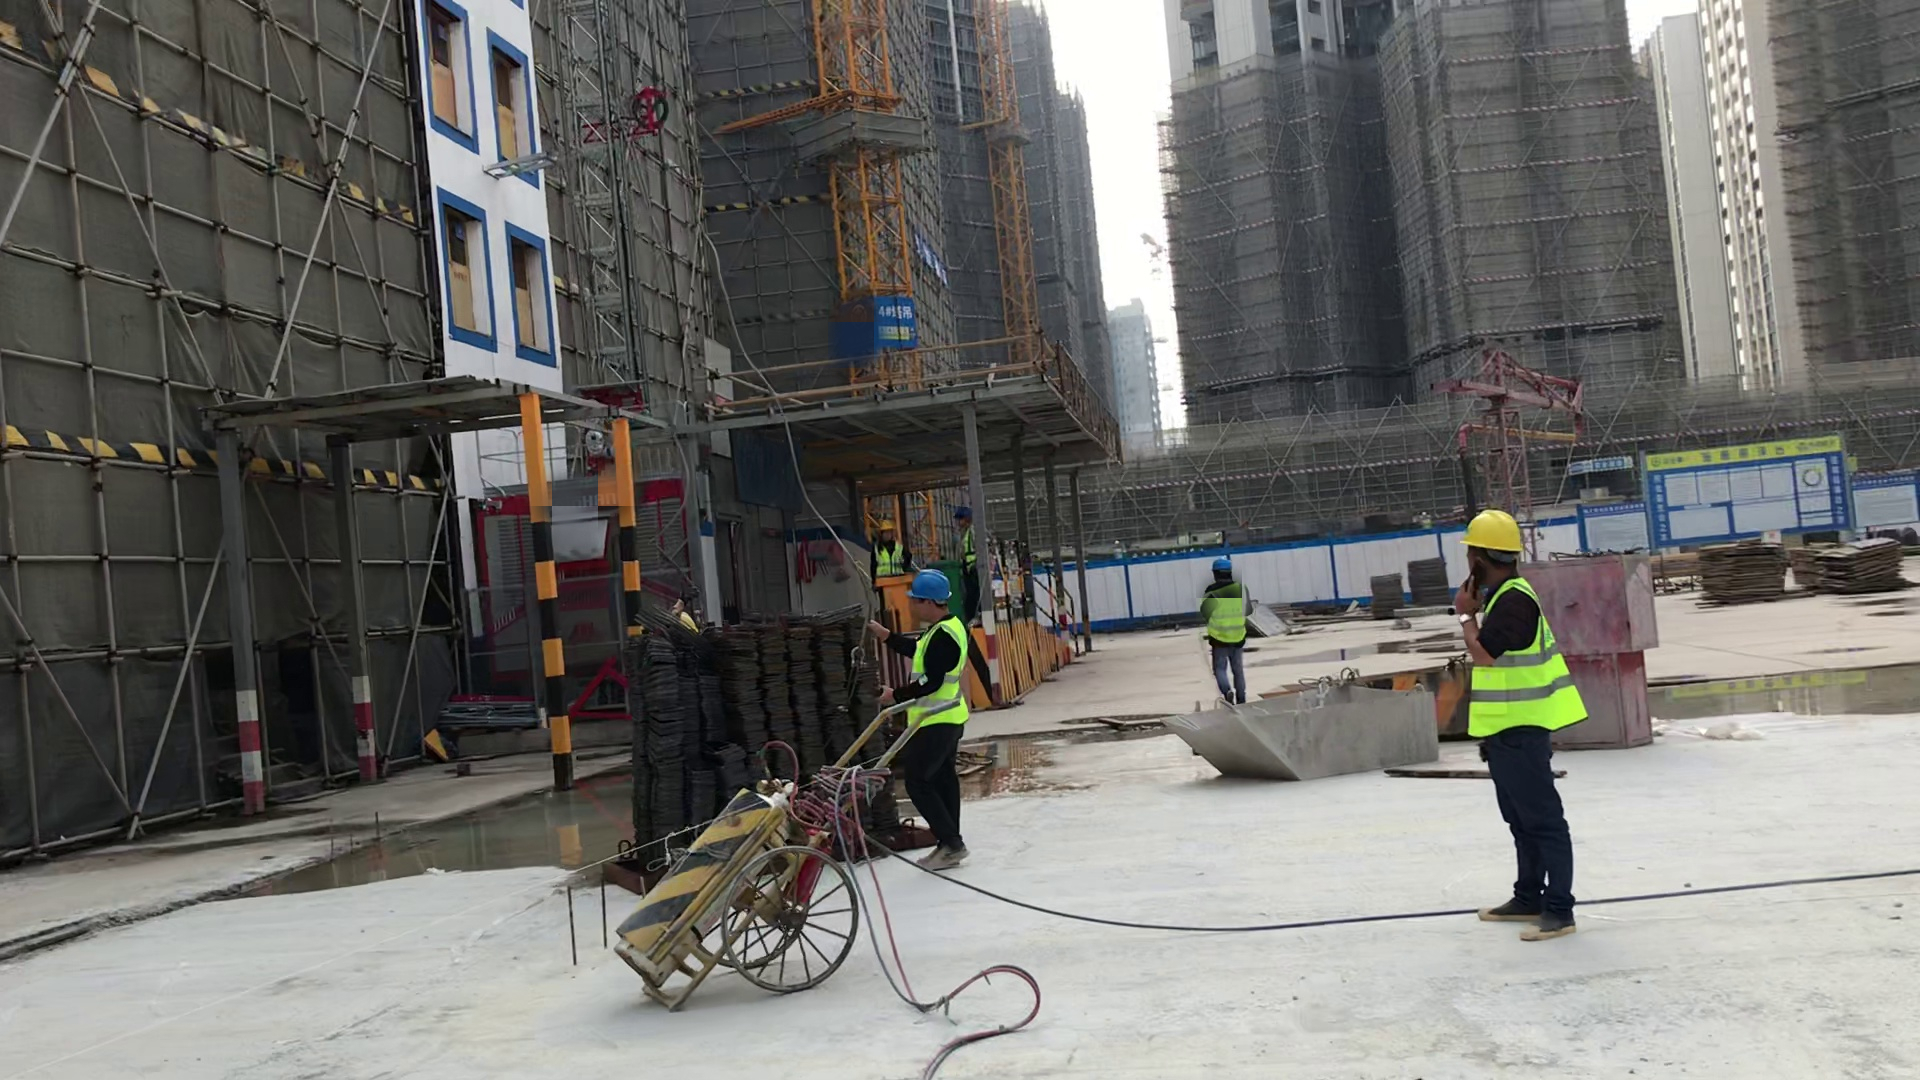board: (1695, 543, 1785, 607), (1822, 549, 1905, 595), (1404, 555, 1462, 613), (1368, 569, 1412, 624), (1793, 539, 1830, 593)
fence: (974, 506, 1141, 665)
handcart: (596, 708, 958, 1036)
helmet: (1465, 508, 1525, 556), (909, 573, 952, 603), (1213, 555, 1234, 574), (875, 517, 898, 532), (959, 505, 975, 524)
hopper: (1159, 694, 1452, 782)
person: (1449, 508, 1597, 961), (881, 568, 984, 875), (1200, 551, 1257, 702), (955, 499, 980, 621), (866, 514, 917, 573)
vest: (1470, 579, 1538, 753), (909, 619, 970, 738), (1208, 582, 1249, 650), (876, 542, 907, 575), (959, 529, 976, 579)
